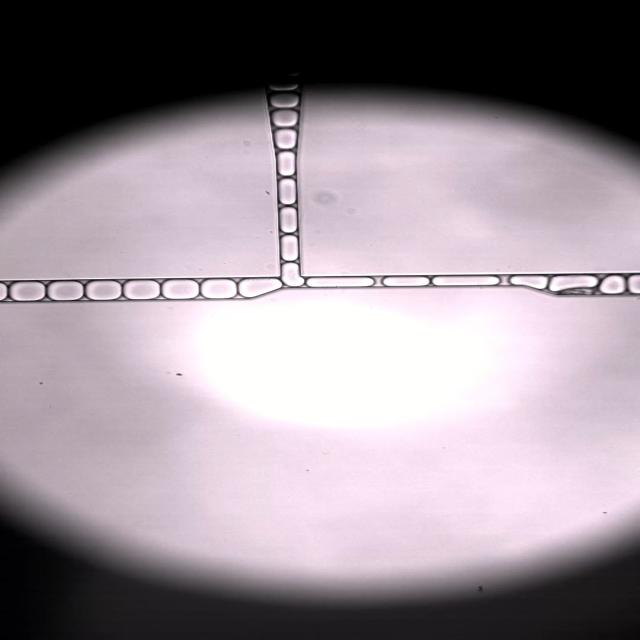L: (510, 275, 548, 290), (281, 263, 303, 286), (280, 235, 298, 261), (274, 129, 297, 149), (383, 276, 429, 286), (277, 151, 295, 176), (271, 110, 297, 127), (279, 179, 296, 205), (280, 207, 297, 233), (270, 93, 299, 108), (601, 276, 623, 294), (268, 83, 299, 91)
S: (239, 279, 281, 298), (550, 276, 596, 292), (123, 280, 159, 300), (162, 280, 199, 299), (9, 282, 45, 301), (85, 281, 121, 300), (48, 281, 83, 300), (201, 279, 236, 298), (307, 277, 373, 287), (433, 276, 499, 286), (628, 275, 639, 294), (0, 283, 7, 300)
